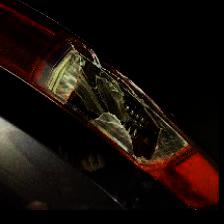tail_lamp: (43, 34, 181, 188)
